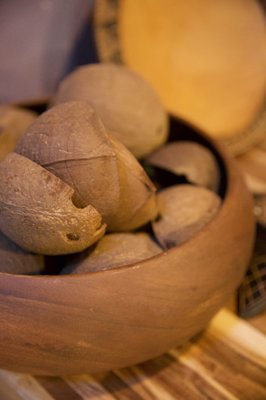taco: (116, 0, 266, 141), (46, 61, 171, 157)
